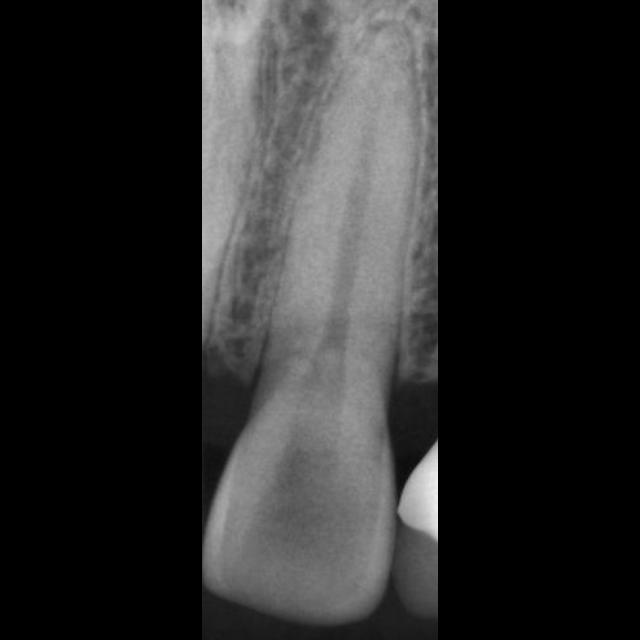tooth: (202, 24, 420, 625)
